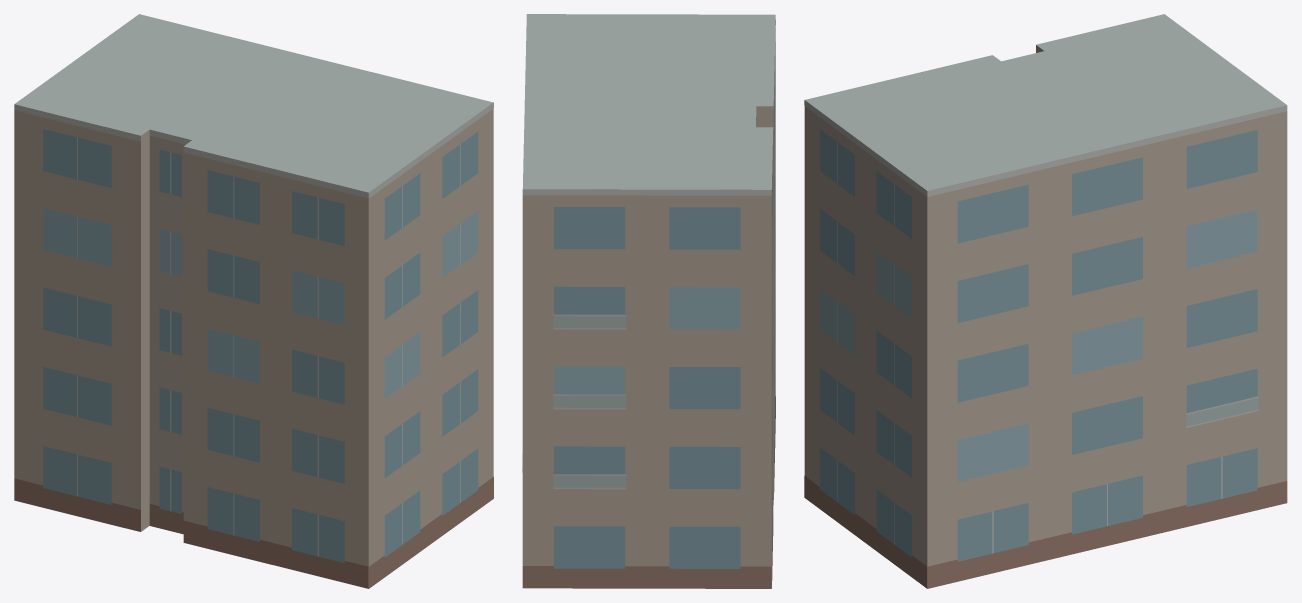
Rendered from survey-upis-32737204.glb.
3 views of the same model, side by side, from view 1: azimuth 30°, elevation 25°; view 2: azimuth 150°, elevation 25°; view 3: azimuth 270°, elevation 25° (orthographic).
Parts seen in each view (by area): view 1: survey-upis-32737204.tmp; view 2: survey-upis-32737204.tmp; view 3: survey-upis-32737204.tmp.
Boxes of the visible parts, x1,y1,x2,y2 form: survey-upis-32737204.tmp: (14,14,493,588); survey-upis-32737204.tmp: (522,14,775,588); survey-upis-32737204.tmp: (804,14,1287,588).
Size of the model in its own units: 15.57 by 16.3 by 17.94.
